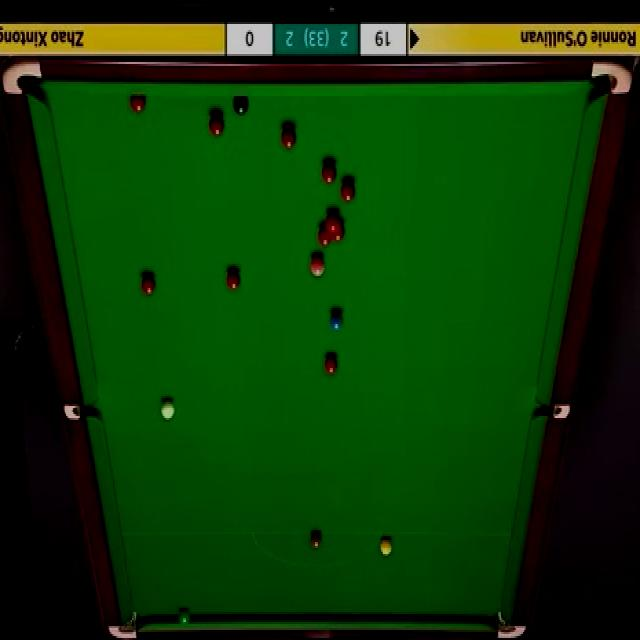black-ball: (232, 95, 248, 117)
blue-ball: (328, 311, 344, 332)
brown-ball: (310, 532, 322, 552)
green-ball: (177, 610, 190, 629)
pink-ball: (307, 251, 324, 278)
red-ball: (320, 160, 337, 189), (225, 267, 242, 294), (280, 123, 296, 151), (208, 110, 225, 136), (324, 350, 339, 376), (341, 180, 355, 207), (142, 271, 156, 296), (332, 218, 346, 242), (318, 222, 331, 246), (129, 97, 147, 114), (324, 210, 340, 229)
white-ball: (160, 396, 176, 422)
yellow-ball: (381, 538, 393, 554)
